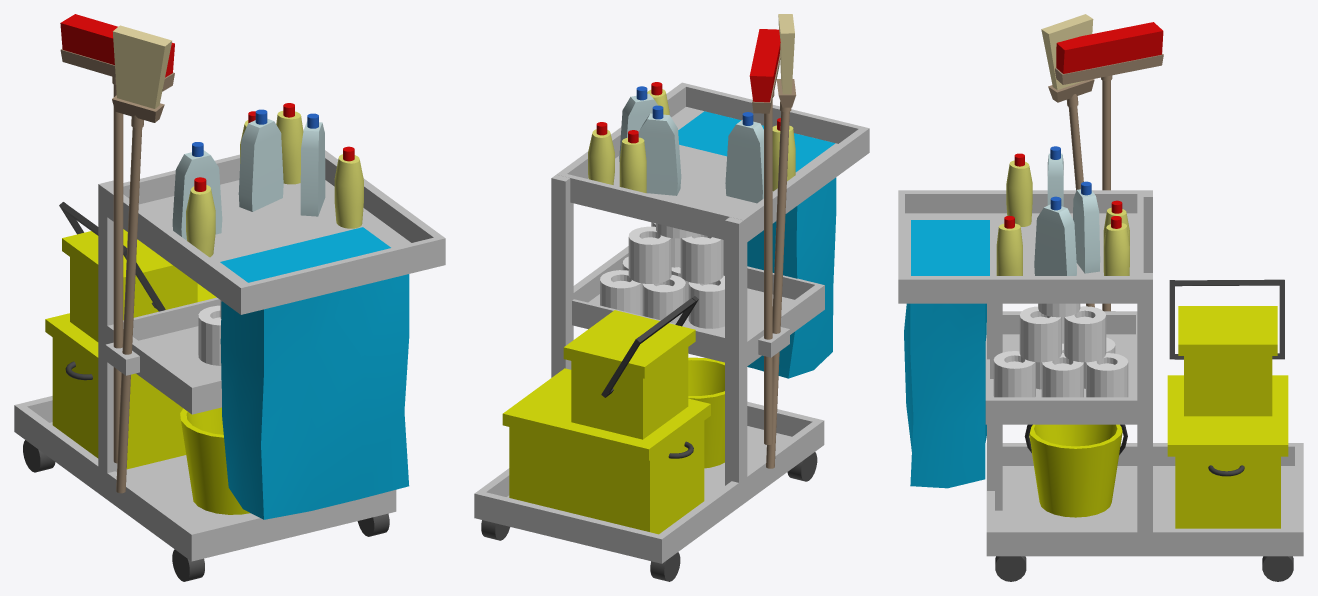
File: Schoonmaakkar.fbx
3 renders of one model, left to right at view 1: azimuth 30°, elevation 25°; view 2: azimuth 150°, elevation 25°; view 3: azimuth 270°, elevation 25°, orthographic. The views are drawn at different scales.
Visible parts, largest first — view 1: pCube29, pPlane6, pCube31, pCube32, pCube33, pCylinder21, pCylinder24, pCylinder22, pCylinder15; view 2: pCube29, pCube32, pCube31, pPlane6, pCylinder14, pCylinder16, pCylinder15, pCylinder12, pCylinder10, pCylinder23, pCylinder22, pCube33 (+1 smaller); view 3: pCube29, pPlane6, pCube33, pCylinder14, pCube31, pCylinder13, pCylinder9, pCylinder12, pCylinder11, pCylinder24, pCylinder21, pCylinder22 (+2 smaller).
Part boxes in pixels (<box>): pCube29: <box>14,14,445,581</box>; pPlane6: <box>220,227,390,282</box>; pCube31: <box>238,109,283,211</box>; pCube32: <box>172,142,222,240</box>; pCube33: <box>300,113,325,216</box>; pCylinder21: <box>334,146,363,228</box>; pCylinder24: <box>186,177,215,257</box>; pCylinder22: <box>276,103,303,184</box>; pCylinder15: <box>198,305,221,365</box>; pCube29: <box>474,14,869,581</box>; pCube32: <box>725,112,763,203</box>; pCube31: <box>638,105,681,195</box>; pPlane6: <box>678,111,835,171</box>; pCylinder14: <box>628,226,671,283</box>; pCylinder16: <box>680,233,723,283</box>; pCylinder15: <box>688,275,724,328</box>; pCylinder12: <box>600,270,642,315</box>; pCylinder10: <box>642,275,685,323</box>; pCylinder23: <box>619,130,646,193</box>; pCylinder22: <box>588,122,614,184</box>; pCube33: <box>619,86,658,161</box>; pCube29: <box>898,14,1303,581</box>; pPlane6: <box>911,220,989,275</box>; pCube33: <box>1034,196,1076,275</box>; pCylinder14: <box>1064,306,1106,362</box>; pCube31: <box>1073,181,1100,273</box>; pCylinder13: <box>1019,306,1061,362</box>; pCylinder9: <box>993,351,1035,397</box>; pCylinder12: <box>1086,353,1128,397</box>; pCylinder11: <box>1041,353,1083,397</box>; pCylinder24: <box>1006,153,1032,226</box>; pCylinder21: <box>996,215,1022,275</box>; pCylinder22: <box>1103,216,1129,275</box>.
Size of the model in its own units: 0.474 by 0.981 by 0.7671.
